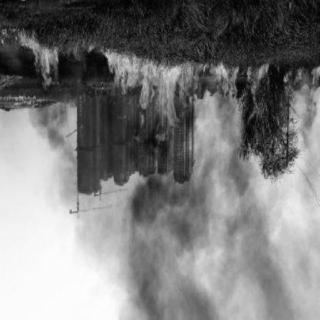Fire: (10, 30, 319, 112)
